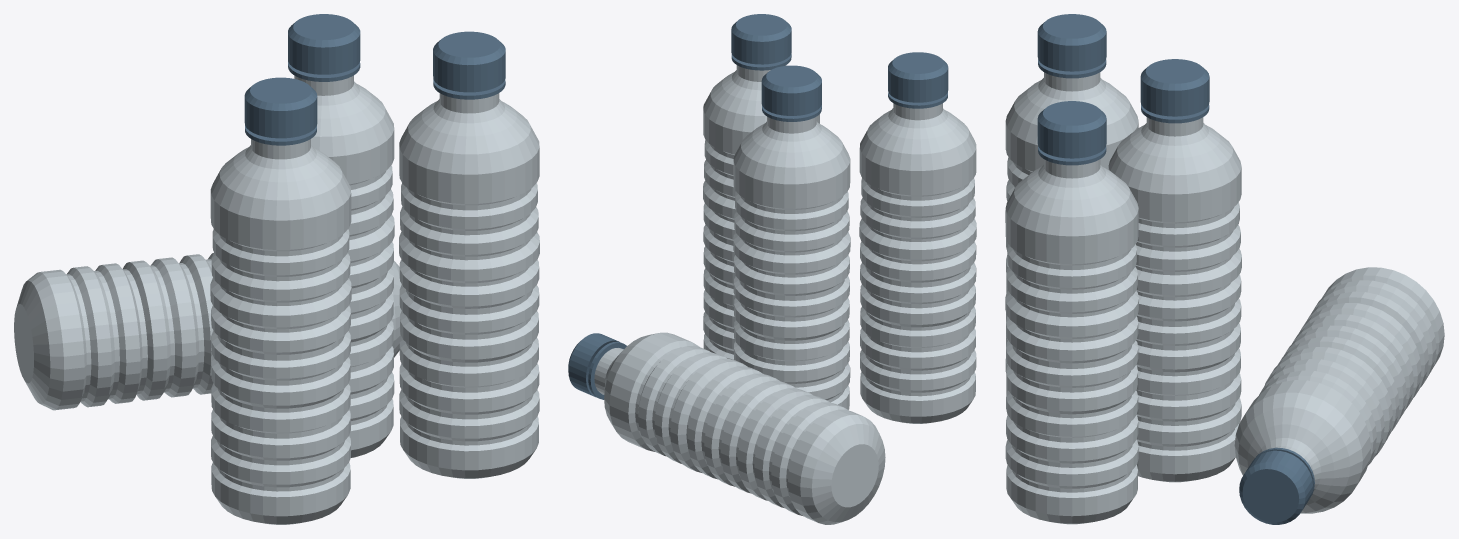
3 renders of one model, left to right at view 1: azimuth 30°, elevation 25°; view 2: azimuth 150°, elevation 25°; view 3: azimuth 270°, elevation 25°, orthographic. The views are drawn at different scales.
Parts seen in each view (by area): view 1: Cylinder.006; view 2: Cylinder.006; view 3: Cylinder.006.
Part boxes in pixels (box(x1,y1,x2,y2)): Cylinder.006: box(14, 14, 539, 524); Cylinder.006: box(568, 14, 976, 524); Cylinder.006: box(1005, 14, 1444, 524).
Bounding box in the file's own units: 311 × 310 × 312.
